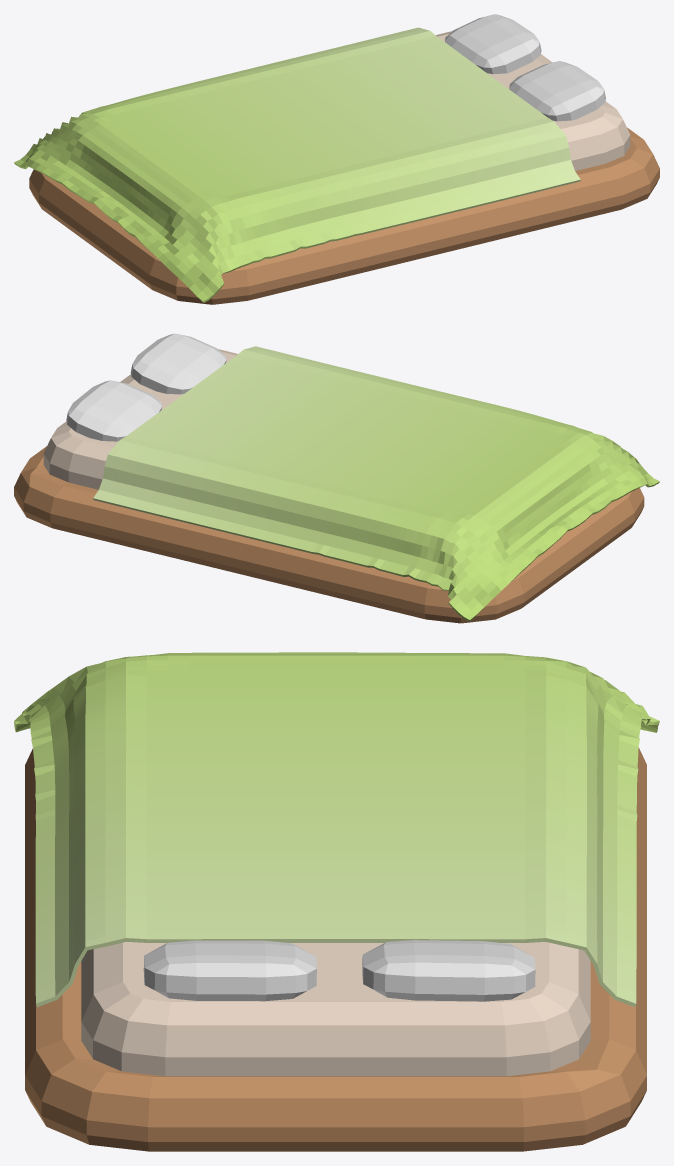
The model's file is Bed.fbx.
3 renders of one model, top to bottom at view 1: azimuth 30°, elevation 25°; view 2: azimuth 150°, elevation 25°; view 3: azimuth 270°, elevation 25°, orthographic. The views are drawn at different scales.
Visible parts, largest first — view 1: Mattress, Bed, BedPillow1, BedPillow2; view 2: Mattress, Bed, BedPillow2, BedPillow1; view 3: Mattress, Bed, BedPillow2, BedPillow1.
Part boxes in pixels (box(x1,y1,x2,y2)): Mattress: box(14, 27, 580, 302); Bed: box(29, 31, 659, 304); BedPillow1: box(509, 61, 605, 121); BedPillow2: box(445, 14, 541, 74); Mattress: box(93, 346, 659, 621); Bed: box(14, 349, 644, 623); BedPillow2: box(66, 380, 161, 441); BedPillow1: box(130, 333, 226, 394); Mattress: box(14, 652, 659, 1007); Bed: box(25, 747, 646, 1151); BedPillow2: box(362, 940, 535, 1001); BedPillow1: box(143, 940, 316, 1001).
Bounding box in the file's own units: 2.34 × 0.4164 × 1.54.
Materials: 1 (1 with a texture image).
